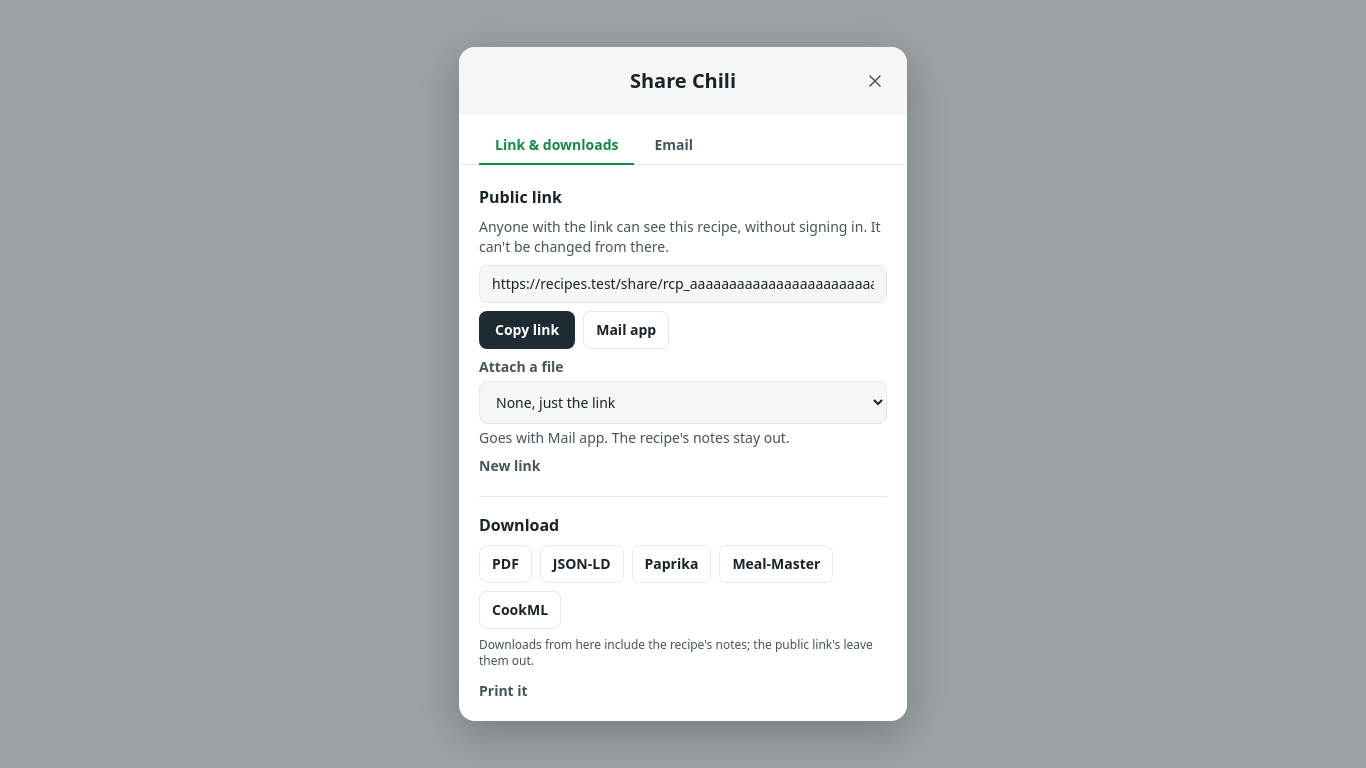
Scenario: the recipe's public link (Share) › shows the link, and copies it
Expected: the field named "Public link" holds "https://recipes.test/share/rcp_aaaaaaaaaaaaaaaaaaaaaaaaaaaaaaaa", [479,265,887,303]
Click the button "Copy link".
click(527, 330)  # box [479,311,575,349]
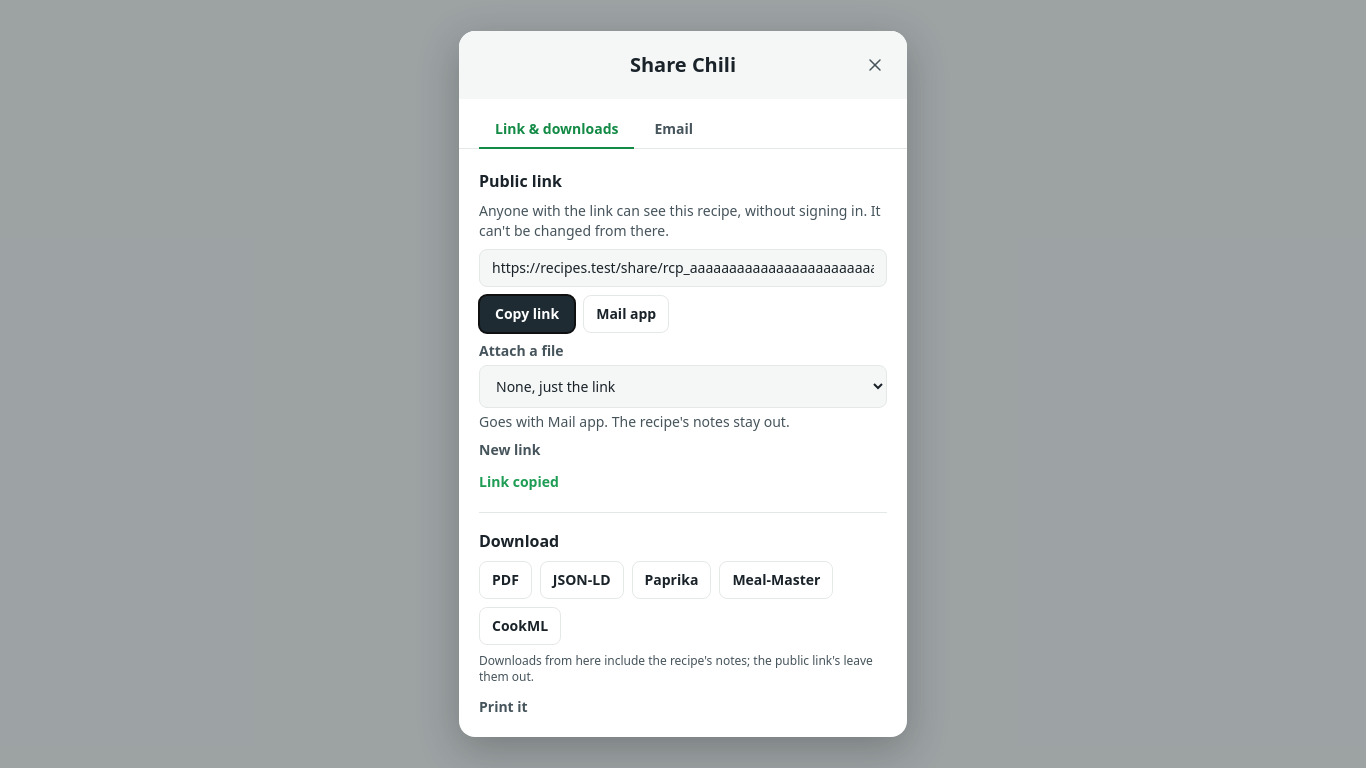
Now the message reads "Link copied", box [479,472,559,491]
